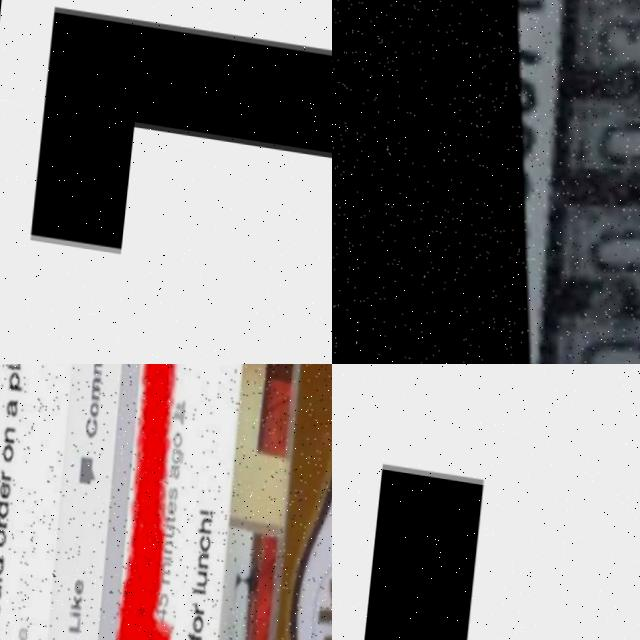0: (575, 206, 640, 287), (580, 99, 640, 180), (571, 318, 640, 364)
3: (580, 0, 640, 75)
4: (159, 602, 172, 618)
5: (161, 586, 173, 602)
F: (332, 418, 640, 640)
J: (13, 2, 332, 364)
